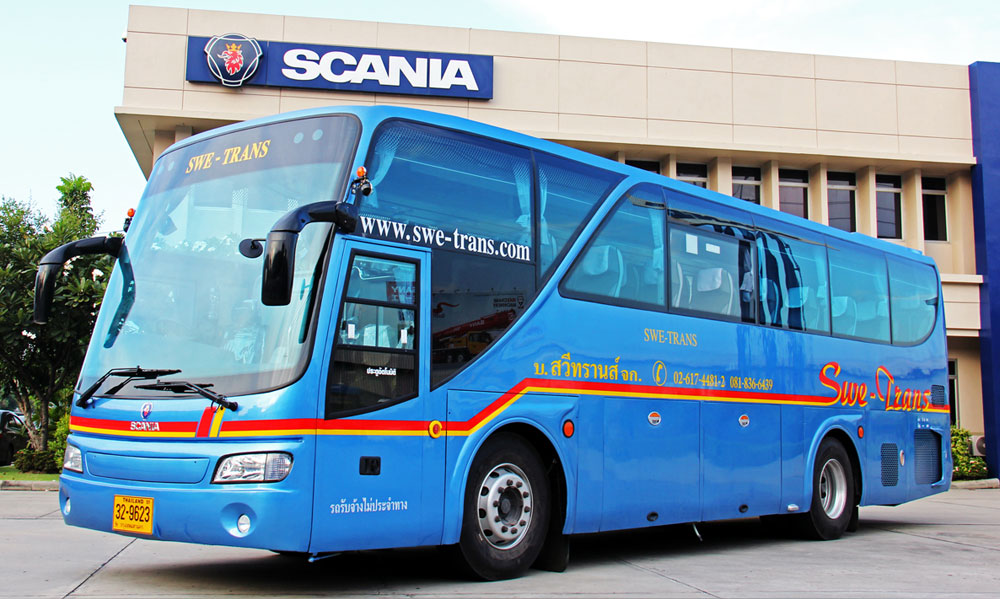bus: (57, 103, 956, 580)
